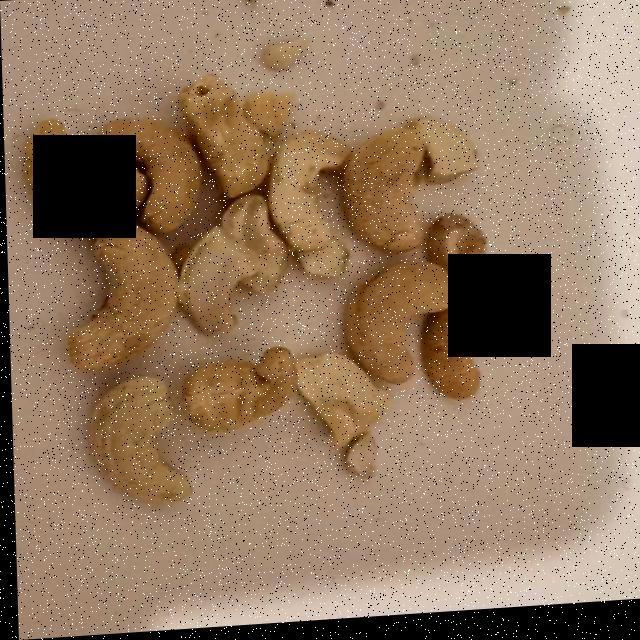cashew-nut: (34, 77, 503, 499)
